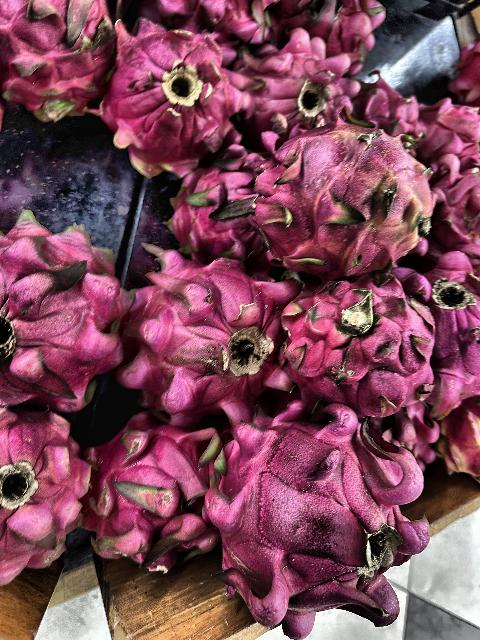buah-naga-belum-matang: (252, 124, 432, 268)
buah-naga-matang: (213, 404, 440, 632), (124, 239, 294, 425), (0, 199, 130, 409), (100, 17, 250, 177), (80, 414, 226, 578), (274, 273, 433, 411), (0, 407, 94, 588), (160, 144, 280, 268), (0, 0, 112, 124), (234, 32, 356, 128), (420, 244, 480, 416), (258, 1, 386, 74), (424, 143, 480, 261), (358, 72, 428, 144)
